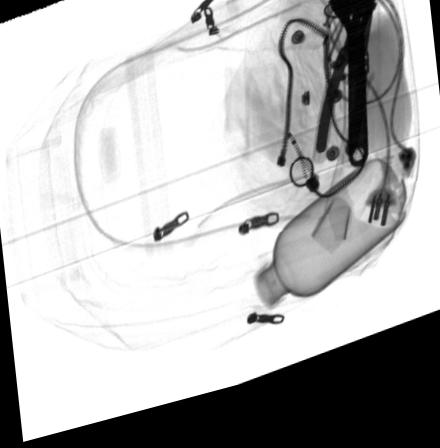Pliers: (311, 13, 372, 188)
Wrench: (329, 0, 376, 186)
